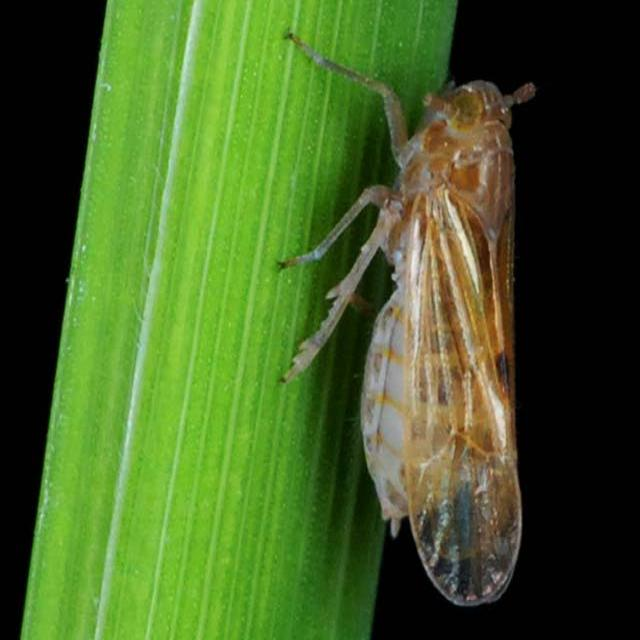wereng pada daun padi: (272, 23, 540, 609)
